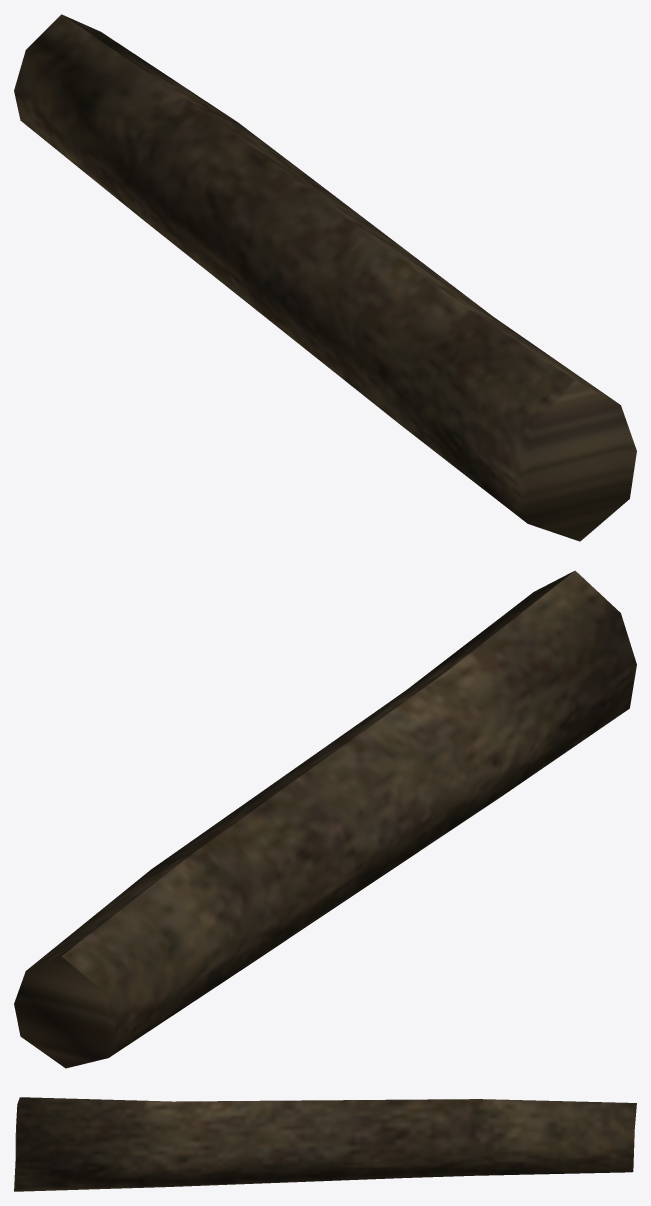
File: cola2.obj
The picture shows the model from 3 angles, top to bottom: view 1: azimuth 30°, elevation 25°; view 2: azimuth 150°, elevation 25°; view 3: azimuth 270°, elevation 25°; orthographic projection. The views are drawn at different scales.
Visible parts, largest first — view 1: X360_XO-W_AMBIANT_Monkey.006; view 2: X360_XO-W_AMBIANT_Monkey.006; view 3: X360_XO-W_AMBIANT_Monkey.006.
Part boxes in pixels (x1,y1,x2,y2): X360_XO-W_AMBIANT_Monkey.006: (14, 14, 636, 541); X360_XO-W_AMBIANT_Monkey.006: (14, 570, 636, 1068); X360_XO-W_AMBIANT_Monkey.006: (14, 1097, 636, 1191).
Bounding box in the file's own units: 0.0128 × 0.0165 × 0.0986.
1 material, 1 textured.
